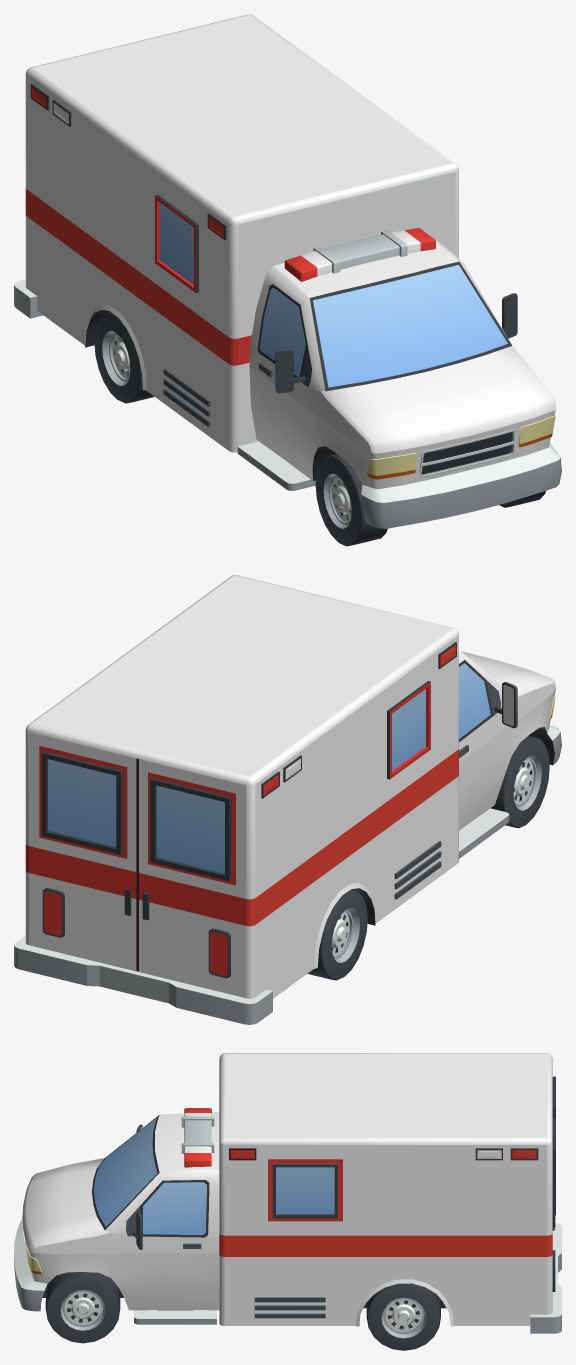
Rendered from Ambulance.fbx.
The picture shows the model from 3 angles, top to bottom: view 1: azimuth 30°, elevation 25°; view 2: azimuth 150°, elevation 25°; view 3: azimuth 270°, elevation 25°; orthographic projection. The views are drawn at different scales.
Parts seen in each view (by area): view 1: Ambulance_body, Ambulance_wheel1, Ambulance_wheel; view 2: Ambulance_body, Ambulance_wheel1, Ambulance_wheel; view 3: Ambulance_body, Ambulance_wheel1, Ambulance_wheel.
Part boxes in pixels (x1,y1,x2,y2): Ambulance_body: [14, 14, 561, 528]; Ambulance_wheel1: [315, 454, 545, 546]; Ambulance_wheel: [94, 312, 154, 403]; Ambulance_body: [14, 575, 561, 1024]; Ambulance_wheel1: [491, 735, 549, 828]; Ambulance_wheel: [307, 889, 367, 980]; Ambulance_body: [14, 1053, 561, 1333]; Ambulance_wheel1: [45, 1272, 120, 1343]; Ambulance_wheel: [366, 1283, 440, 1350].
Bounding box in the file's own units: 0.5983 × 0.6258 × 1.47.
